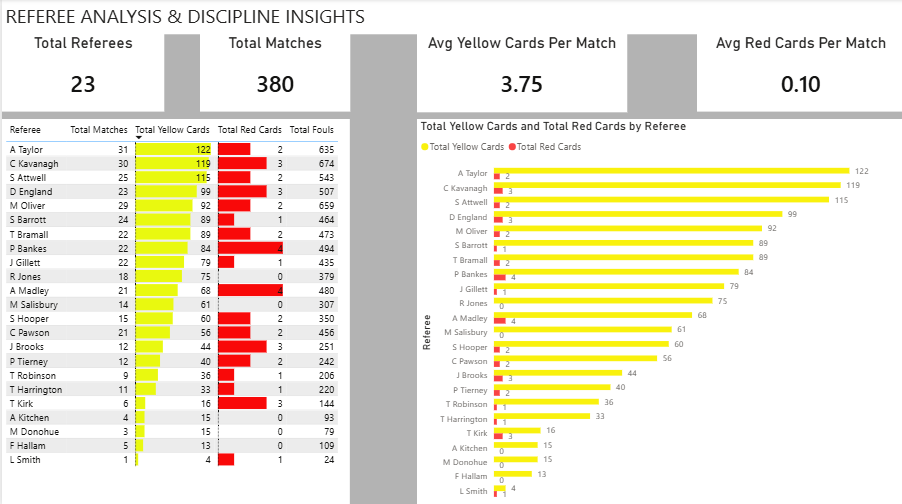

What the dashboard file says about the page in this screenshot:
{"tool":"powerbi","page":{"name":"Referee & Discipline Insights","canvas":[1280,720],"ordinal":2},"visuals":[{"type":"textbox","box":[0,0,1280,50.1],"z":0},{"type":"cardVisual","title":"Total Referees","fields":{"Data":["_AllMeasure.Total Referees"]},"box":[0,50.1,230.3,110.1],"z":1000},{"type":"clusteredBarChart","fields":{"Category":["DimReferee.Referee"],"Y":["_AllMeasure.Total Yellow Cards","_AllMeasure.Total Red Cards"]},"box":[587.8,170.2,692.2,549.2],"z":2000},{"type":"cardVisual","title":"Total Matches","fields":{"Data":["_AllMeasure.Total Matches"]},"box":[280.3,50.1,213.1,110.1],"z":3000},{"type":"tableEx","fields":{"Values":["DimReferee.Referee","_AllMeasure.Total Matches","_AllMeasure.Total Yellow Cards","_AllMeasure.Total Red Cards","_AllMeasure.Total Fouls"]},"box":[0,170.2,493.4,549.2],"z":4000},{"type":"cardVisual","title":"Avg Yellow Cards Per Match","fields":{"Data":["_AllMeasure.Avg Yellow Cards Per Match"]},"box":[588.2,49.6,297.6,110.6],"z":5000},{"type":"cardVisual","title":"Avg Red Cards Per Match","fields":{"Data":["_AllMeasure.Avg Red Cards Per Match"]},"box":[985.4,50.1,294.6,110.1],"z":6000}]}

Visuals, with their boxes in screenshot pixels (x1, y1, x2, y2), scaled from the page's 1280x720 canvas onto the 902x504 screenshot:
textbox: locate(0, 0, 901, 35)
"Total Referees" cardVisual: locate(0, 35, 162, 112)
clusteredBarChart - DimReferee.Referee x _AllMeasure.Total Yellow Cards: locate(414, 119, 901, 503)
"Total Matches" cardVisual: locate(198, 35, 348, 112)
tableEx - DimReferee.Referee x _AllMeasure.Total Matches: locate(0, 119, 348, 503)
"Avg Yellow Cards Per Match" cardVisual: locate(414, 35, 624, 112)
"Avg Red Cards Per Match" cardVisual: locate(694, 35, 901, 112)
